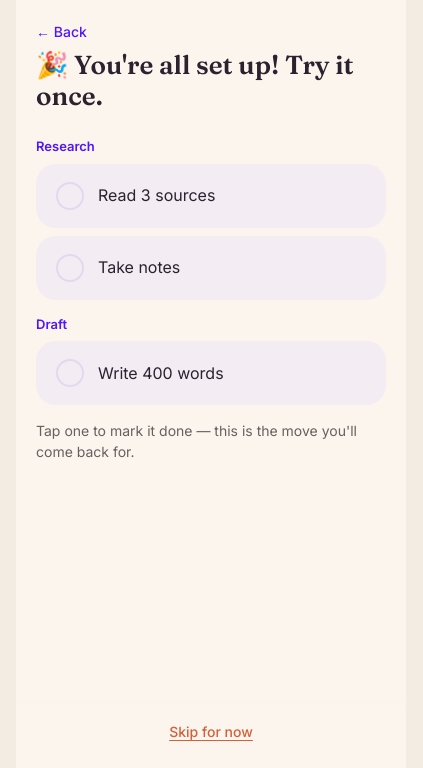
Scenario: continue shows home-base copy for when_i_can cadence
Click the button with aria-label "mark done: read 3 sources": point(136, 196) [56,182,215,210]
Wait 1600 ms
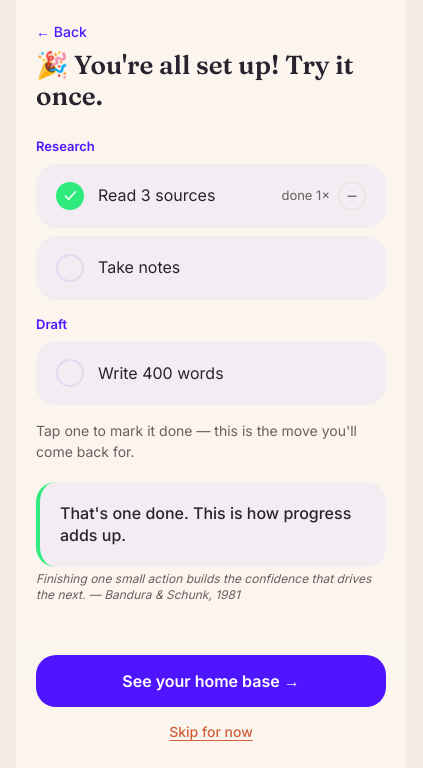
Result: the button "See your home base →" is shown at [36,655,386,707]
